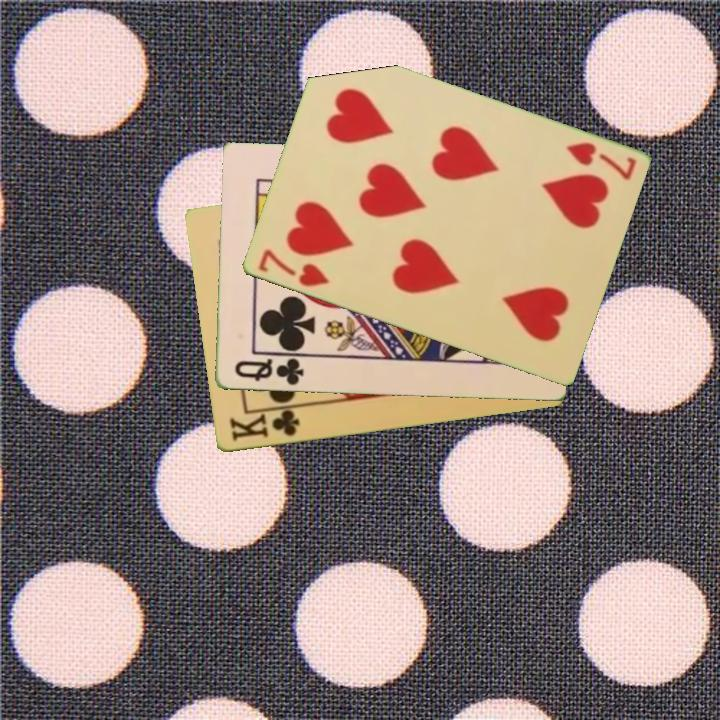7h: (562, 138, 639, 184), (254, 246, 332, 290)
Kc: (225, 404, 305, 445)
Qc: (230, 353, 309, 389)
